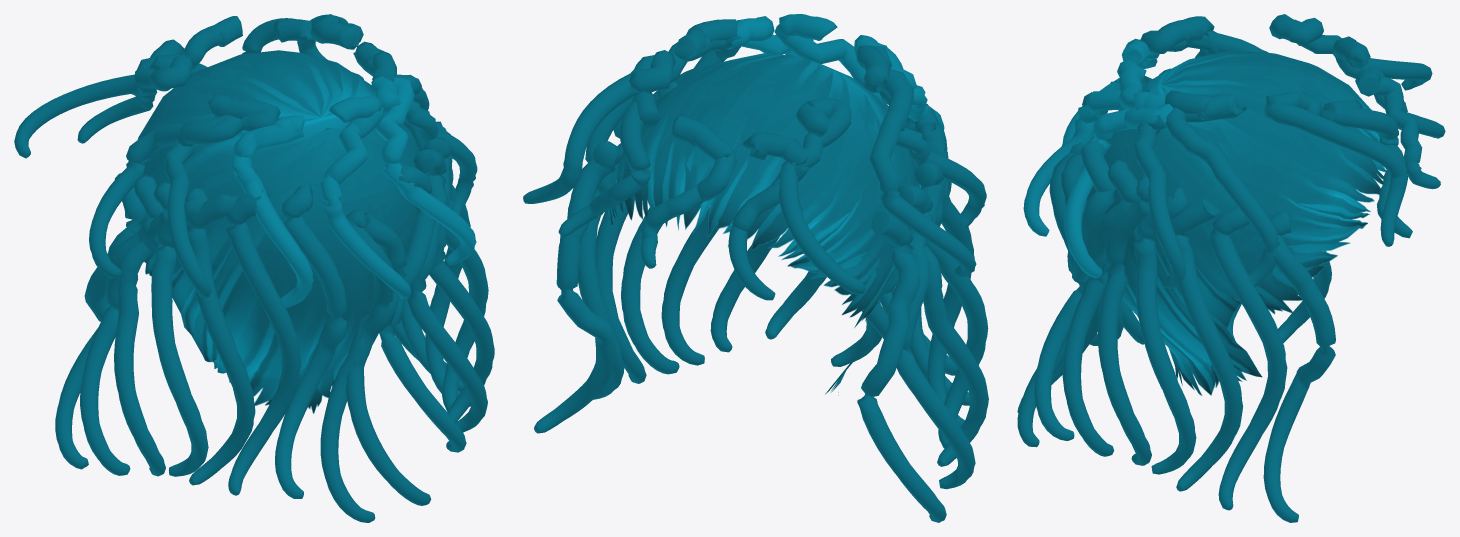
Rendered from hair.glb.
3 renders of one model, left to right at view 1: azimuth 30°, elevation 25°; view 2: azimuth 150°, elevation 25°; view 3: azimuth 270°, elevation 25°, orthographic. The views are drawn at different scales.
Parts seen in each view (by area): view 1: male-medium-waves-v1; view 2: male-medium-waves-v1; view 3: male-medium-waves-v1.
Boxes of the visible parts, x1=… form: male-medium-waves-v1: x1=14, y1=14, x2=494, y2=522; male-medium-waves-v1: x1=523, y1=14, x2=988, y2=522; male-medium-waves-v1: x1=1017, y1=14, x2=1445, y2=522.
Size of the model in its own units: 0.3076 by 0.2874 by 0.2967.
Materials: 1 (1 with a texture image).
